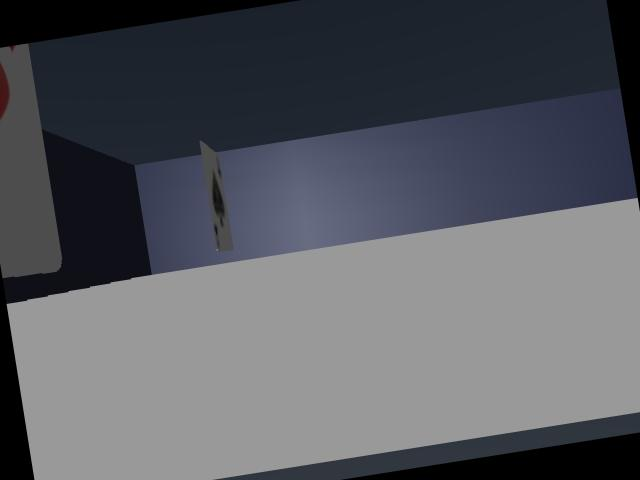club: (200, 141, 232, 251)
heart: (0, 44, 61, 277)
